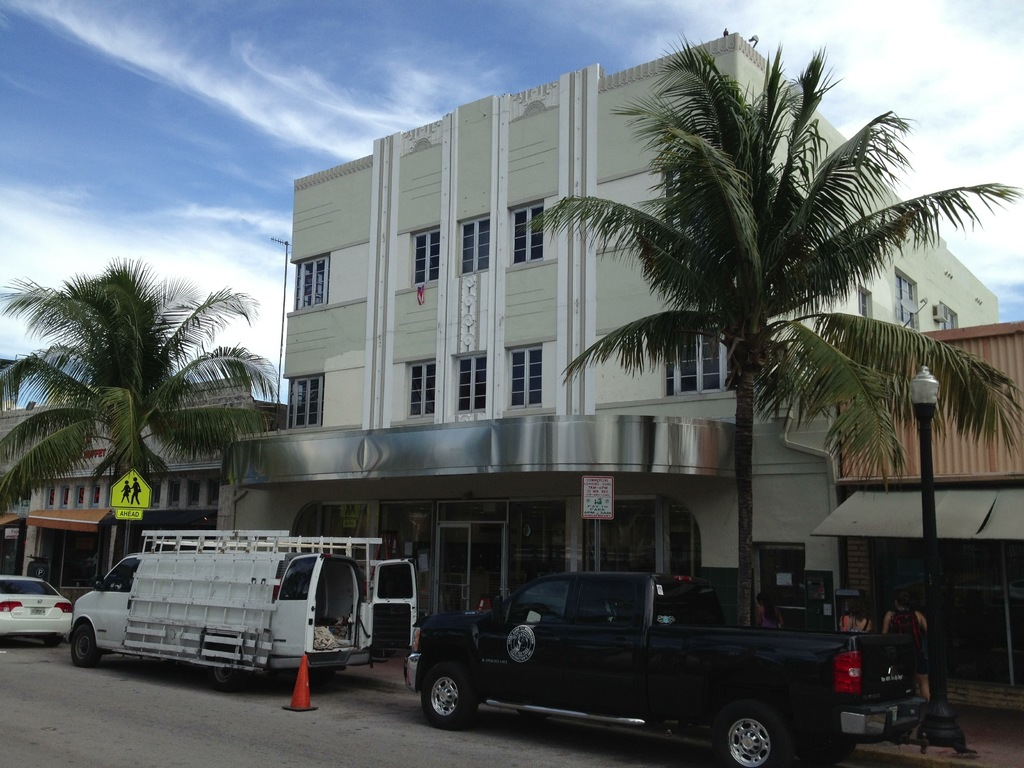Car: (397, 559, 961, 760), (0, 572, 74, 637)
